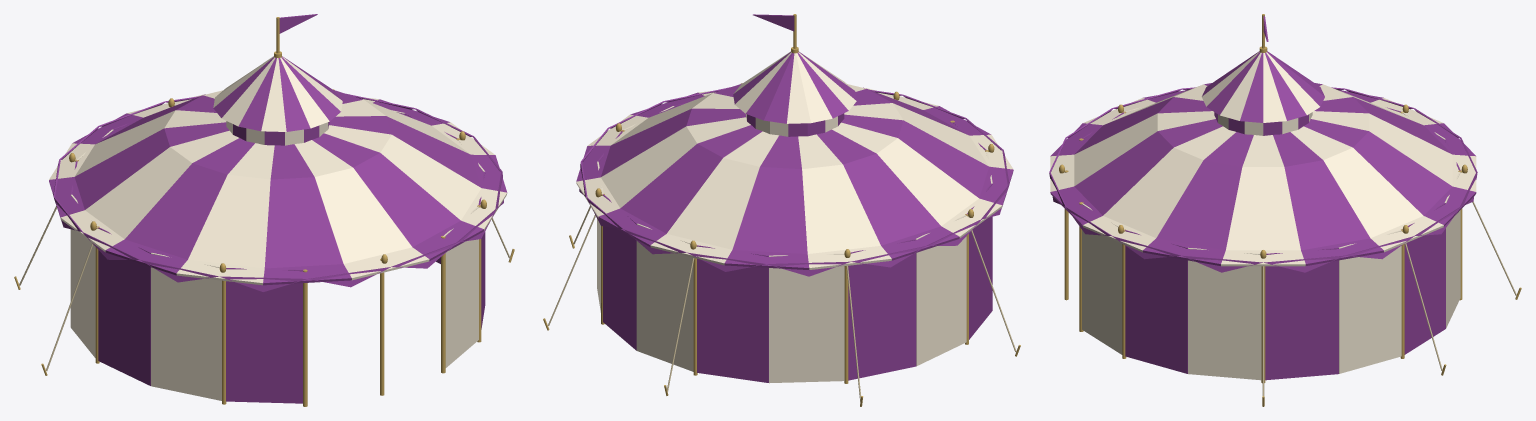
The model's file is circus_tent_pavilion.glb.
3 renders of one model, left to right at view 1: azimuth 30°, elevation 25°; view 2: azimuth 150°, elevation 25°; view 3: azimuth 270°, elevation 25°, orthographic. The views are drawn at different scales.
Parts seen in each view (by area): view 1: Pavilion scalloped lower roof, Octagonal pavilion striped canvas walls, Pavilion raised pointed cap, Octagonal pavilion pointed valance, Striped upper roof lantern, Octagonal pavilion entry upright, Octagonal pavilion perimeter support pole.006, Octagonal pavilion entry upright.001, Octagonal pavilion perimeter support pole.005, Octagonal pavilion perimeter support pole.004; view 2: Pavilion scalloped lower roof, Octagonal pavilion striped canvas walls, Pavilion raised pointed cap, Octagonal pavilion pointed valance, Striped upper roof lantern, Octagonal pavilion perimeter support pole.003, Octagonal pavilion perimeter support pole.002; view 3: Pavilion scalloped lower roof, Octagonal pavilion striped canvas walls, Pavilion raised pointed cap, Octagonal pavilion pointed valance, Striped upper roof lantern, Octagonal pavilion perimeter support pole, Octagonal pavilion perimeter support pole.001, Octagonal pavilion perimeter support pole.007, Octagonal pavilion perimeter support pole.006.
Boxes of the visible parts, x1,y1,x2,y2 form: Pavilion scalloped lower roof: (49, 90, 507, 285); Octagonal pavilion striped canvas walls: (70, 110, 485, 403); Pavilion raised pointed cap: (213, 56, 342, 131); Octagonal pavilion pointed valance: (53, 93, 503, 291); Striped upper roof lantern: (226, 121, 329, 145); Octagonal pavilion entry upright: (303, 269, 307, 406); Octagonal pavilion perimeter support pole.006: (380, 259, 384, 395); Octagonal pavilion entry upright.001: (441, 235, 445, 373); Octagonal pavilion perimeter support pole.005: (222, 280, 226, 404); Octagonal pavilion perimeter support pole.004: (95, 226, 99, 363); Pavilion scalloped lower roof: (576, 83, 1013, 269); Octagonal pavilion striped canvas walls: (597, 103, 992, 383); Pavilion raised pointed cap: (733, 51, 856, 123); Octagonal pavilion pointed valance: (579, 87, 1009, 276); Striped upper roof lantern: (746, 113, 844, 136); Octagonal pavilion perimeter support pole.003: (844, 266, 848, 383); Octagonal pavilion perimeter support pole.002: (693, 244, 697, 375); Pavilion scalloped lower roof: (1050, 83, 1476, 266); Octagonal pavilion striped canvas walls: (1082, 107, 1460, 380); Pavilion raised pointed cap: (1202, 51, 1324, 122); Octagonal pavilion pointed valance: (1049, 87, 1477, 272); Striped upper roof lantern: (1214, 112, 1312, 135); Octagonal pavilion perimeter support pole: (1261, 266, 1265, 383); Octagonal pavilion perimeter support pole.001: (1400, 229, 1404, 358); Octagonal pavilion perimeter support pole.007: (1122, 229, 1126, 358); Octagonal pavilion perimeter support pole.006: (1064, 170, 1068, 300).
Size of the model in its own units: 11.55 by 7.03 by 10.56.
